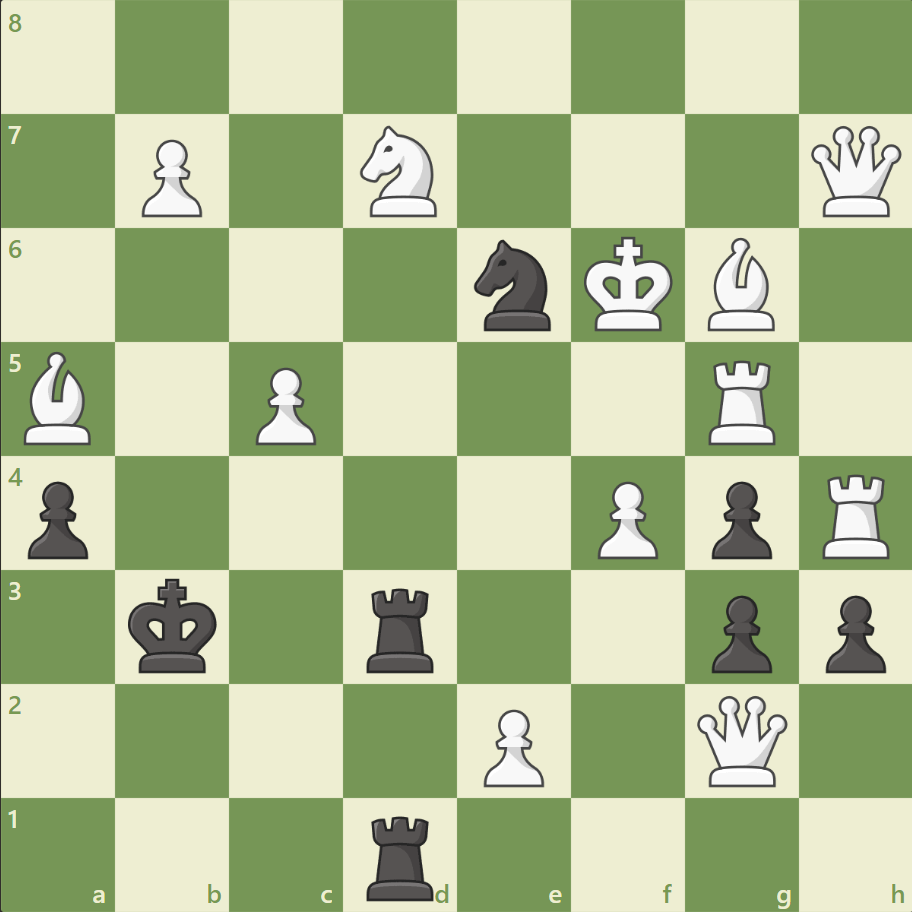B: (698, 233, 782, 336), (17, 347, 101, 449)
K: (579, 231, 679, 339)
N: (351, 121, 449, 223)
P: (133, 132, 208, 223), (247, 359, 322, 450), (474, 700, 549, 791), (588, 473, 662, 564)
Q: (805, 122, 904, 222), (691, 690, 790, 789)
R: (700, 352, 783, 449), (814, 466, 897, 563)
k: (124, 571, 224, 679)
n: (465, 234, 562, 337)
p: (20, 473, 95, 564), (701, 473, 776, 564), (701, 586, 776, 677), (815, 586, 889, 677)
r: (360, 806, 442, 904), (360, 579, 442, 676)
